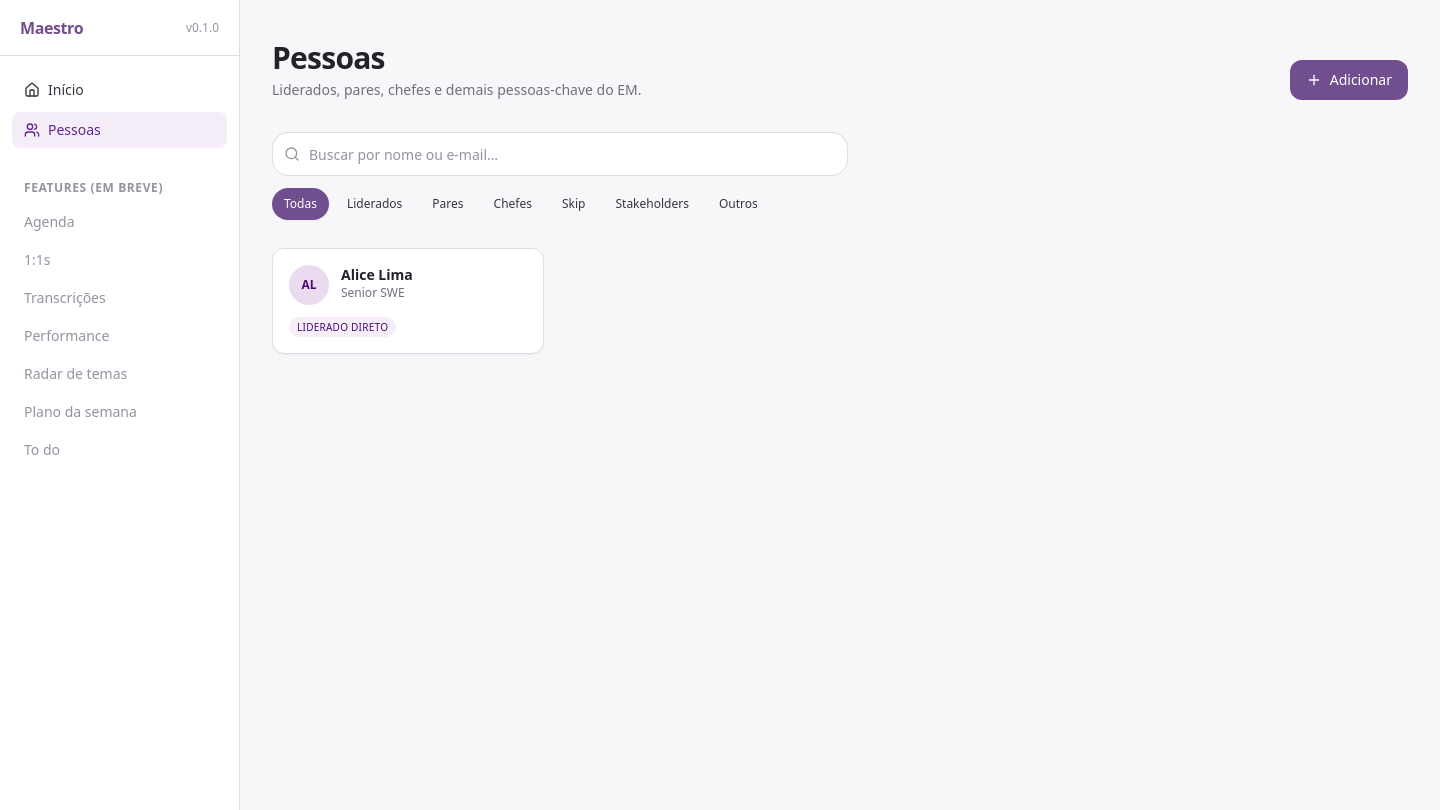
People page › opens the drawer on card click with editable form prefilled
Click the text "Alice Lima". click: x=377, y=275
box: [341, 265, 413, 285]
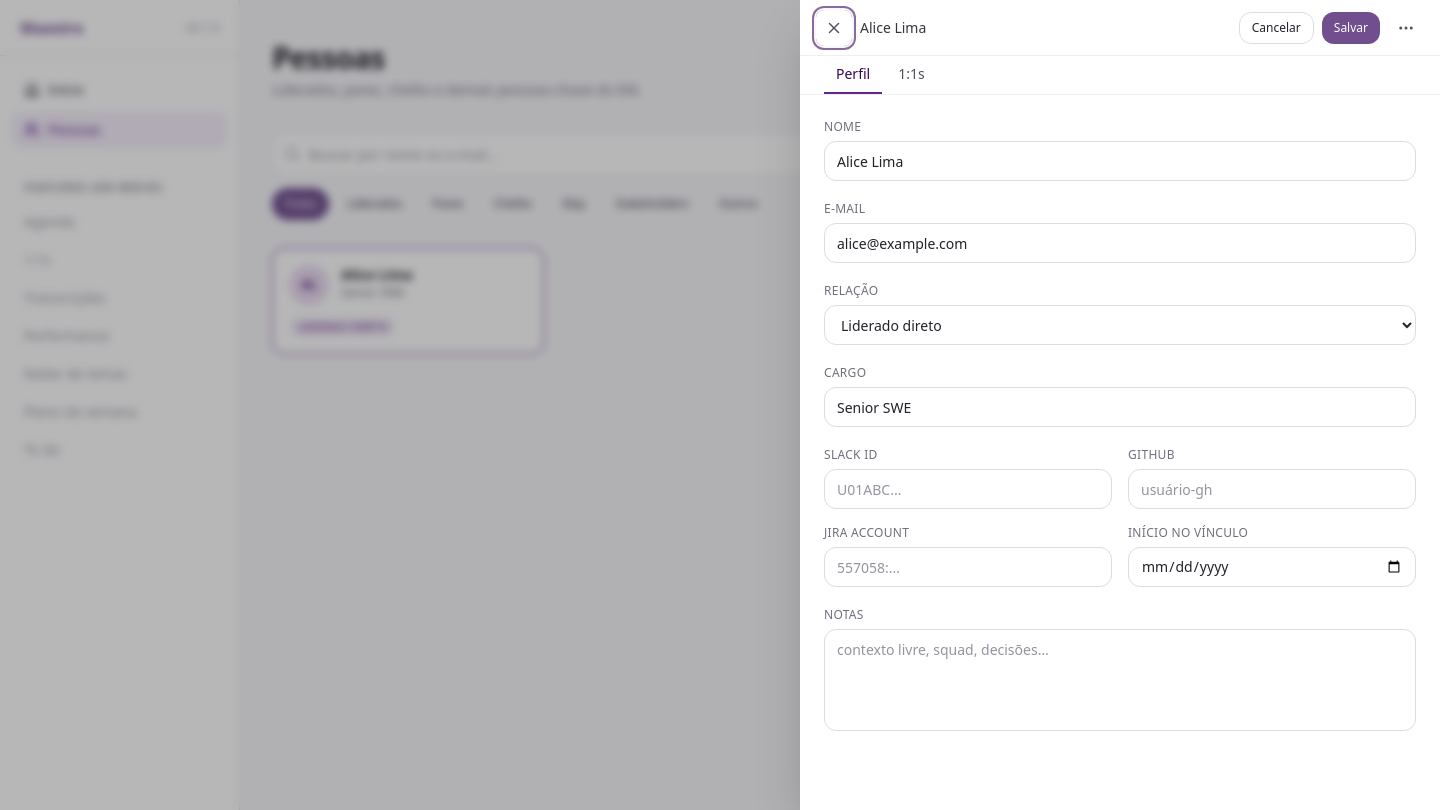
Expected: the dialog is shown, [800, 0, 1439, 809]
Expected: the field showing "Alice Lima" is shown, [824, 141, 1416, 181]
Expected: the field showing "alice@example.com" is shown, [824, 223, 1416, 263]
